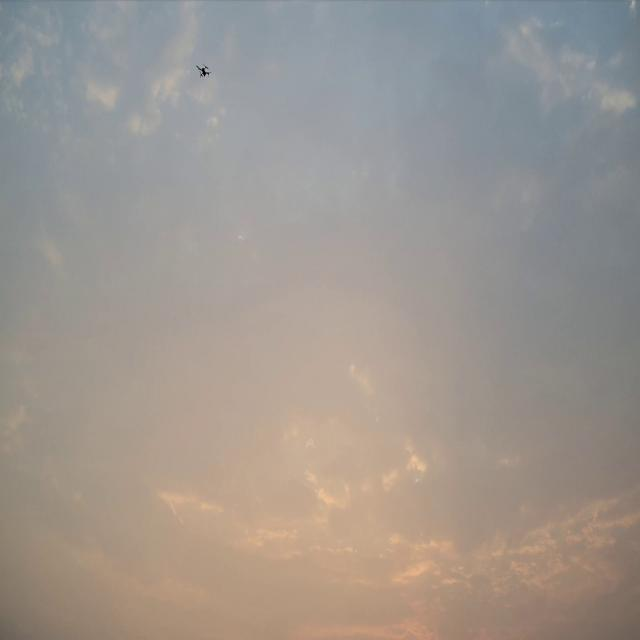drone: (196, 62, 211, 78)
